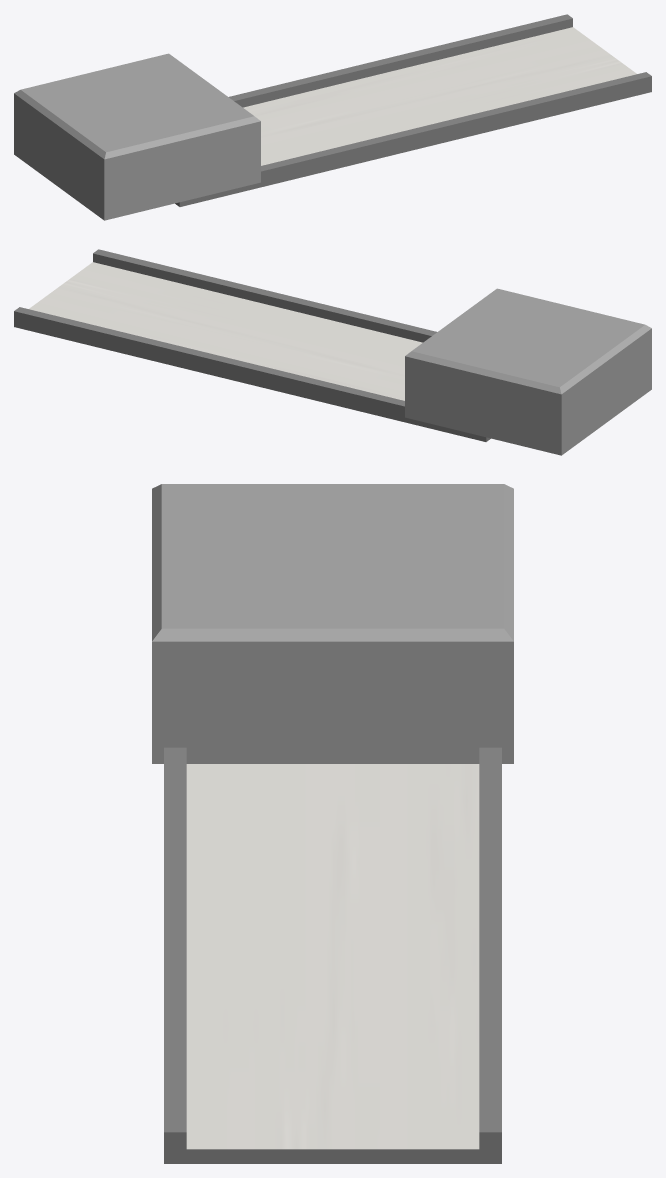
File: Bant_1.fbx
3 views of the same model, one above another, from view 1: azimuth 30°, elevation 25°; view 2: azimuth 150°, elevation 25°; view 3: azimuth 270°, elevation 25° (orthographic). The views are drawn at different scales.
Parts seen in each view (by area): view 1: Bant, Bant_Box; view 2: Bant, Bant_Box; view 3: Bant, Bant_Box.
Boxes of the visible parts, bbox=[...] form: Bant: bbox=[175, 14, 651, 206]; Bant_Box: bbox=[14, 53, 260, 220]; Bant: bbox=[14, 249, 490, 441]; Bant_Box: bbox=[405, 288, 651, 455]; Bant: bbox=[164, 747, 501, 1163]; Bant_Box: bbox=[152, 484, 513, 763].
Bounding box in the file's own units: 703 × 89.51 × 200.
